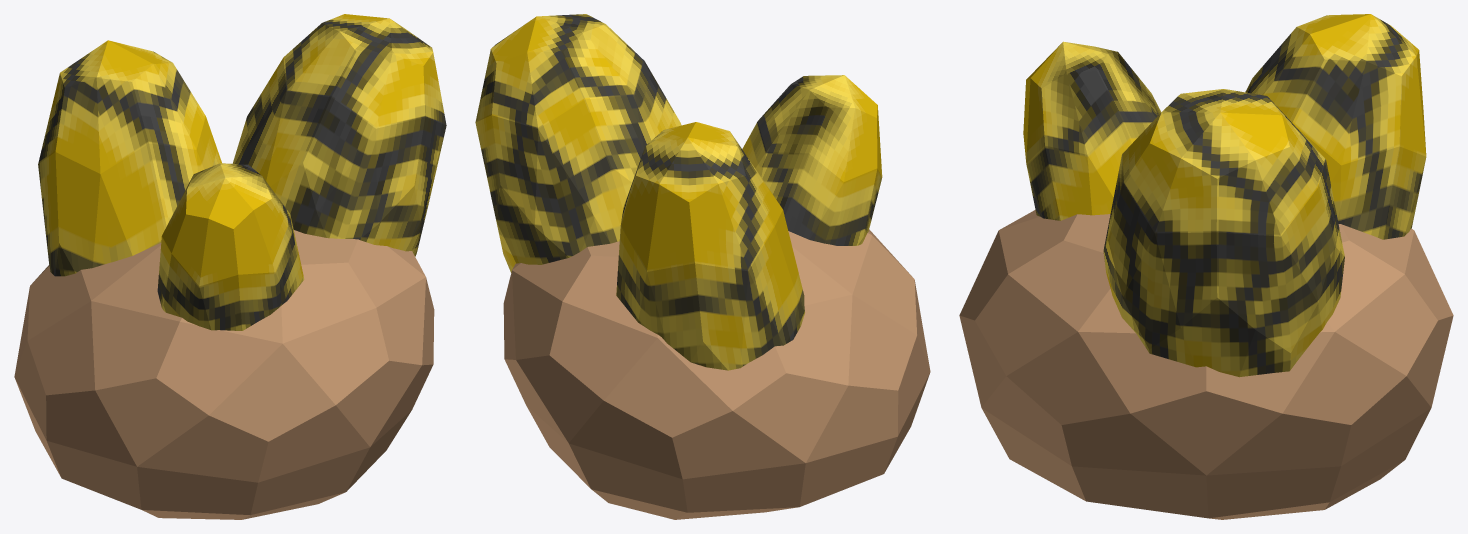
Rendered from SM_GoldOreRock.fbx.
The picture shows the model from 3 angles, left to right: view 1: azimuth 30°, elevation 25°; view 2: azimuth 150°, elevation 25°; view 3: azimuth 270°, elevation 25°; orthographic projection. The views are drawn at different scales.
Visible parts, largest first — view 1: GoldOreRock; view 2: GoldOreRock; view 3: GoldOreRock.
Boxes of the visible parts, left/top/right/bottom form: GoldOreRock: left=14, top=14, right=446, bottom=519; GoldOreRock: left=475, top=14, right=930, bottom=519; GoldOreRock: left=959, top=14, right=1453, bottom=519.
Bounding box in the file's own units: 88.92 × 87.04 × 84.76.
